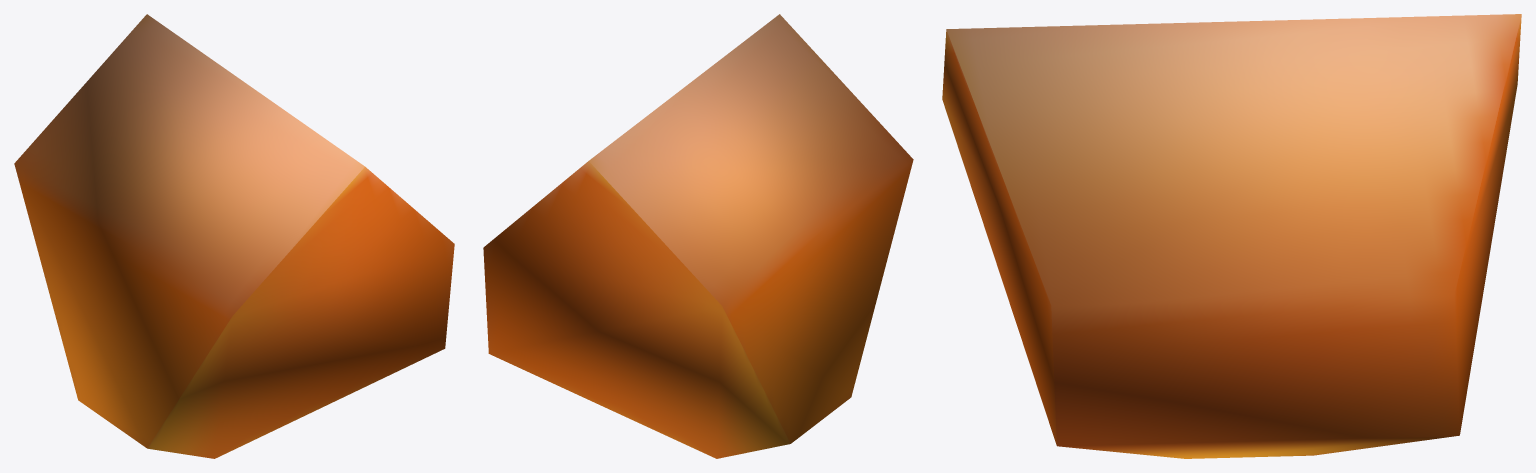
File: huyoubaoshi_04.FBX
The picture shows the model from 3 angles, left to right: view 1: azimuth 30°, elevation 25°; view 2: azimuth 150°, elevation 25°; view 3: azimuth 270°, elevation 25°; orthographic projection. The views are drawn at different scales.
Visible parts, largest first — view 1: huyoubaoshi_04; view 2: huyoubaoshi_04; view 3: huyoubaoshi_04.
Boxes of the visible parts, bbox=[...] form: huyoubaoshi_04: bbox=[14, 14, 454, 458]; huyoubaoshi_04: bbox=[483, 14, 913, 458]; huyoubaoshi_04: bbox=[942, 14, 1521, 458].
Size of the model in its own units: 33.95 by 40.42 by 44.15.
